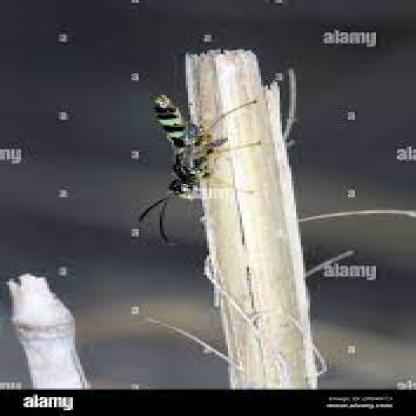sawfly: (123, 90, 266, 236)
